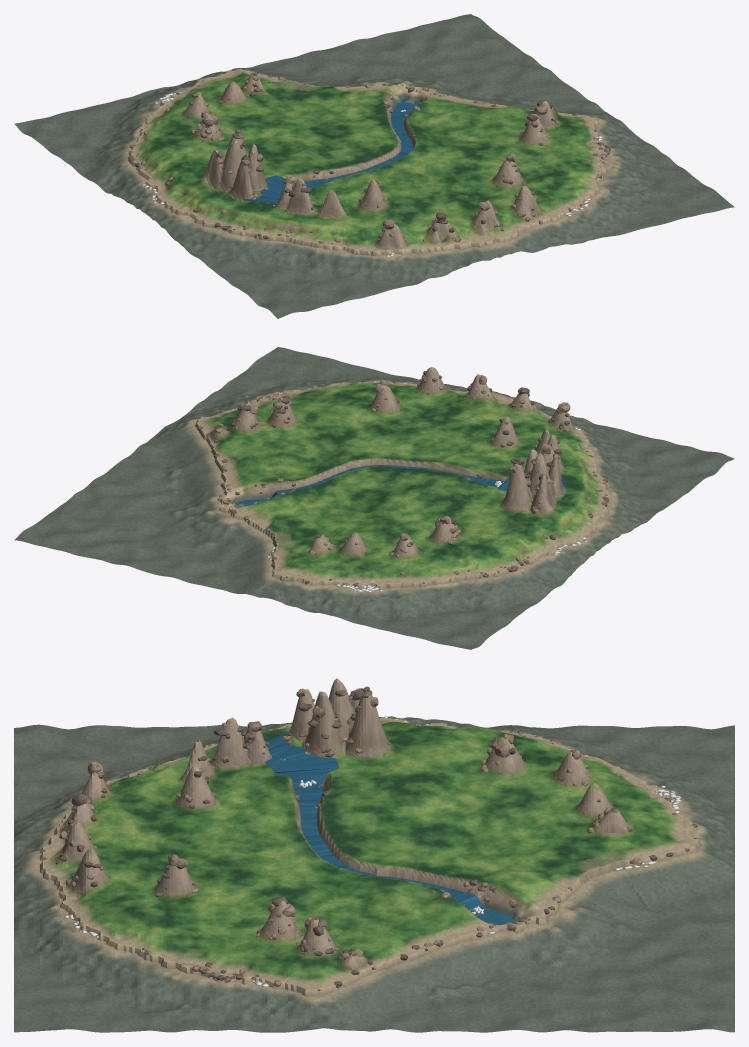
Rendered from Terrain_P1.fbx.
3 views of the same model, one above another, from view 1: azimuth 30°, elevation 25°; view 2: azimuth 150°, elevation 25°; view 3: azimuth 270°, elevation 25° (orthographic). The views are drawn at different scales.
Parts seen in each view (by area): view 1: Ground, River; view 2: Ground, River; view 3: Ground, River, Surf.
Part boxes in pixels (bbox=[...]): Ground: bbox=[14, 14, 734, 318]; River: bbox=[243, 99, 419, 203]; Ground: bbox=[14, 347, 734, 649]; River: bbox=[235, 465, 568, 506]; Ground: bbox=[14, 678, 734, 1032]; River: bbox=[264, 732, 516, 924]; Surf: bbox=[64, 716, 681, 986].
Size of what is drawn, in the model's own units: 64000 by 9981 by 64000.
